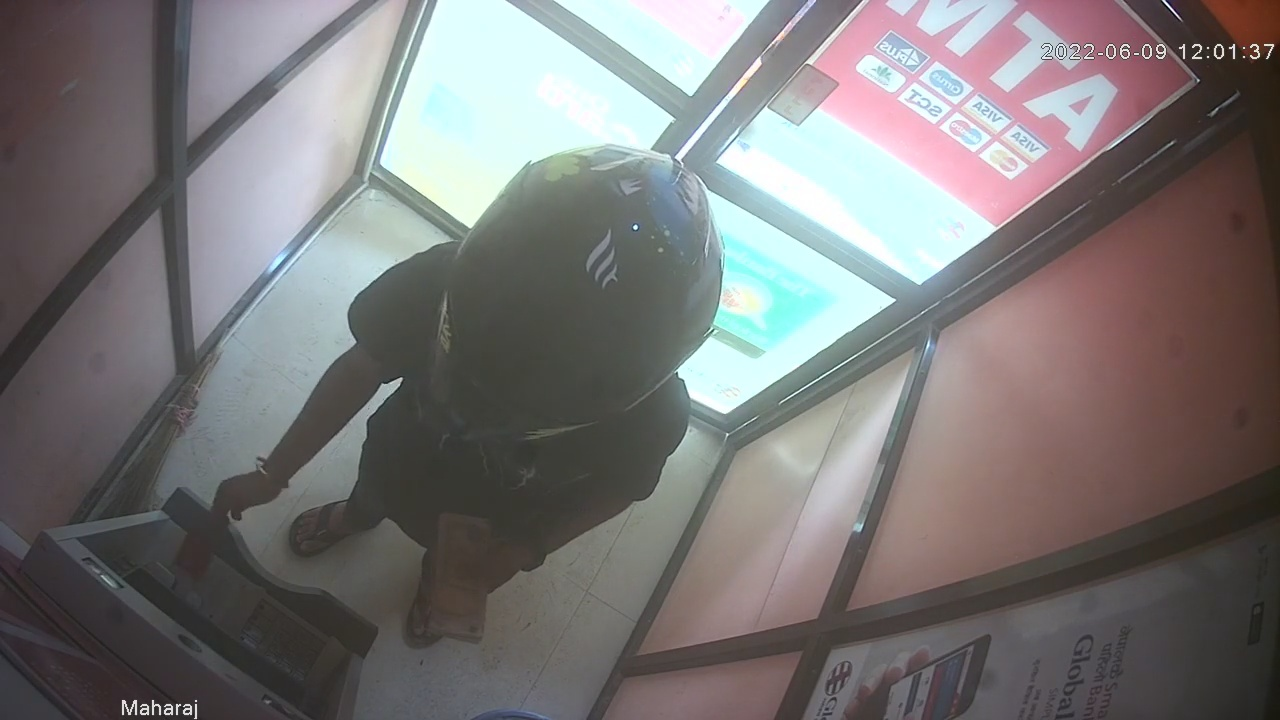helmet: (424, 145, 722, 445)
person: (207, 142, 724, 650)
